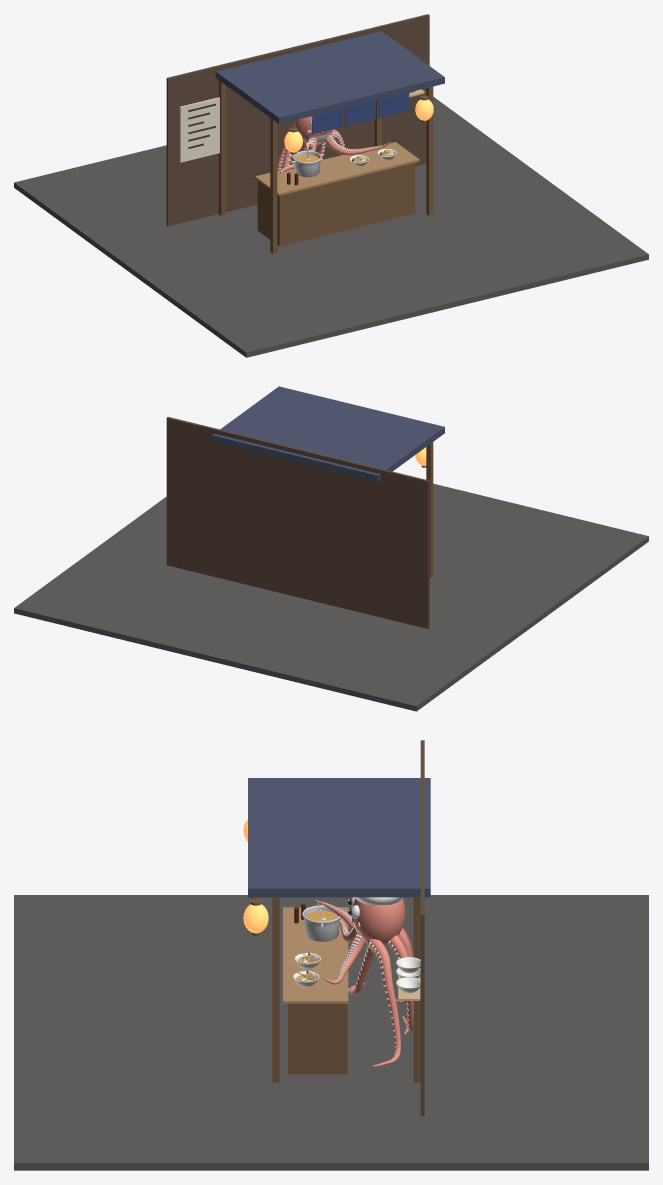
The model's file is octopus_ramen_booth.glb.
3 views of the same model, one above another, from view 1: azimuth 30°, elevation 25°; view 2: azimuth 150°, elevation 25°; view 3: azimuth 270°, elevation 25° (orthographic). The views are drawn at different scales.
Parts seen in each view (by area): view 1: Booth_Floor, Booth_Back_Wall, Booth_Awning, Booth_Counter_Body, Booth_Counter_Top, Booth_Menu_Board, Booth_Post_Front_L, Booth_Post_Back_L, Booth_Post_Front_R, Booth_Noren_Panel_2, Booth_Noren_Panel_1, Booth_Noren_Panel_0 (+1 smaller); view 2: Booth_Floor, Booth_Back_Wall, Booth_Awning, Booth_Post_Front_L; view 3: Booth_Floor, Booth_Awning, Booth_Counter_Body, Booth_Counter_Top, Booth_Back_Wall, Octopus_Mantle, Booth_Post_Front_R, Octopus_Arm_Floor_R, Booth_Post_Back_R, Pot_Stock, Booth_Lantern_R.
Part boxes in pixels (<box>): Booth_Floor: <box>14,97,648,357</box>; Booth_Back_Wall: <box>166,14,429,226</box>; Booth_Awning: <box>215,31,444,123</box>; Booth_Counter_Body: <box>257,163,415,246</box>; Booth_Counter_Top: <box>255,142,419,195</box>; Booth_Menu_Board: <box>179,97,219,162</box>; Booth_Post_Front_L: <box>270,118,277,253</box>; Booth_Post_Back_L: <box>218,80,225,215</box>; Booth_Post_Front_R: <box>426,86,433,215</box>; Booth_Noren_Panel_2: <box>378,92,409,118</box>; Booth_Noren_Panel_1: <box>345,100,375,126</box>; Booth_Noren_Panel_0: <box>312,108,342,134</box>; Booth_Floor: <box>14,483,648,711</box>; Booth_Back_Wall: <box>166,417,429,628</box>; Booth_Awning: <box>212,386,444,481</box>; Booth_Post_Front_L: <box>426,442,433,577</box>; Booth_Floor: <box>14,895,648,1170</box>; Booth_Awning: <box>248,778,430,897</box>; Booth_Counter_Body: <box>288,1004,347,1074</box>; Booth_Counter_Top: <box>283,907,348,1003</box>; Booth_Back_Wall: <box>420,740,424,1116</box>; Octopus_Mantle: <box>353,898,405,945</box>; Booth_Post_Front_R: <box>272,897,279,1082</box>; Octopus_Arm_Floor_R: <box>367,938,400,1067</box>; Booth_Post_Back_R: <box>413,897,420,1082</box>; Pot_Stock: <box>302,905,340,942</box>; Booth_Lantern_R: <box>243,904,268,933</box>.
Bounding box in the file's own units: 8 × 2.9 × 8.
